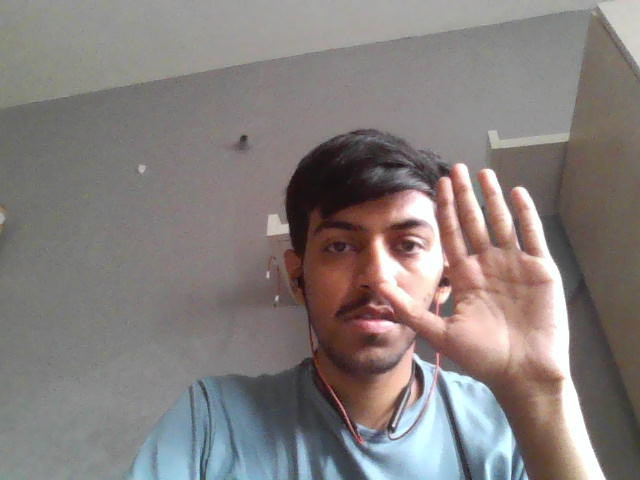Hello: (385, 155, 586, 383)
